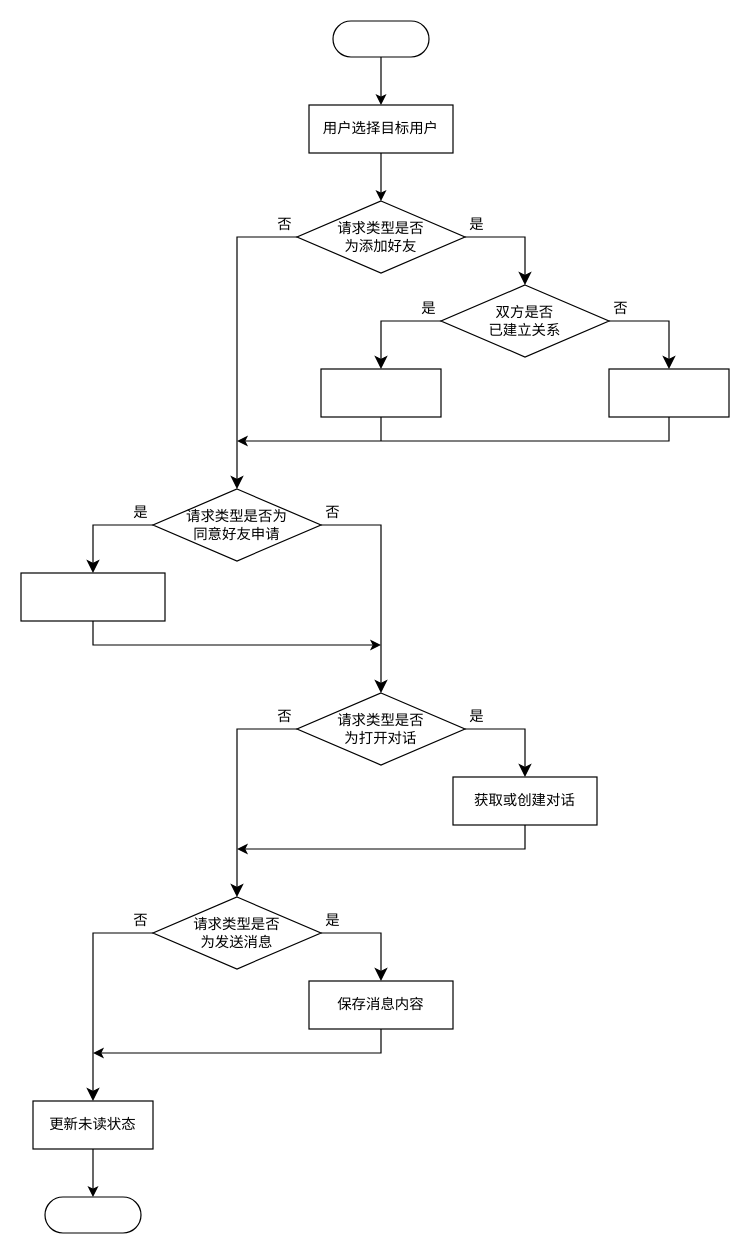
The diagram is 750 pixels wide and 1254 high, and some of its shapes have lost their labels. The shapes that lost their labels are listed below. From the top down, each one's centre as x and y in pixels, then its label:
At pixel 380 38: "开始".
At pixel 380 392: "返回限制提示".
At pixel 668 392: "创建好友申请".
At pixel 92 596: "确认好友关系".
At pixel 92 1214: "结束".
